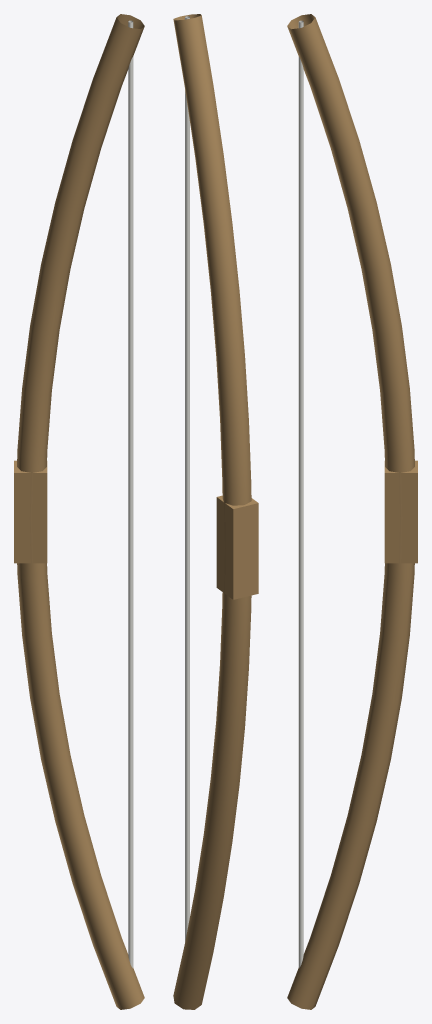
The model's file is bow.glb.
The picture shows the model from 3 angles, left to right: view 1: azimuth 90°, elevation 25°; view 2: azimuth 210°, elevation 25°; view 3: azimuth 270°, elevation 25°; orthographic projection.
Parts seen in each view (by area): view 1: limbs, string, grip; view 2: limbs, string, grip; view 3: limbs, string, grip.
Boxes of the visible parts, box(x1,y1,x2,y2) form: limbs: box(17, 14, 144, 1009); string: box(128, 20, 133, 967); grip: box(14, 460, 47, 563); limbs: box(173, 14, 251, 1009); string: box(185, 16, 189, 942); grip: box(216, 495, 258, 599); limbs: box(287, 14, 414, 1009); string: box(298, 20, 303, 967); grip: box(384, 460, 417, 563).
Bounding box in the file's own units: 0.036 × 1.31 × 0.157.
